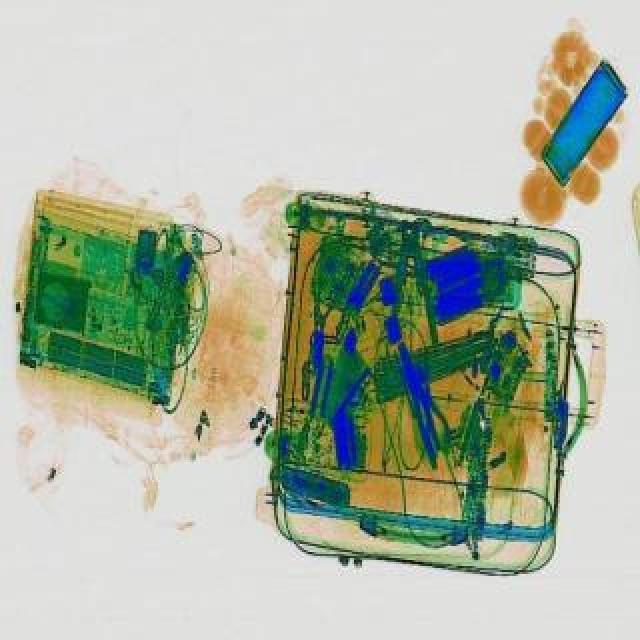wrench: (392, 342, 448, 474), (388, 222, 440, 346), (402, 364, 458, 460)
